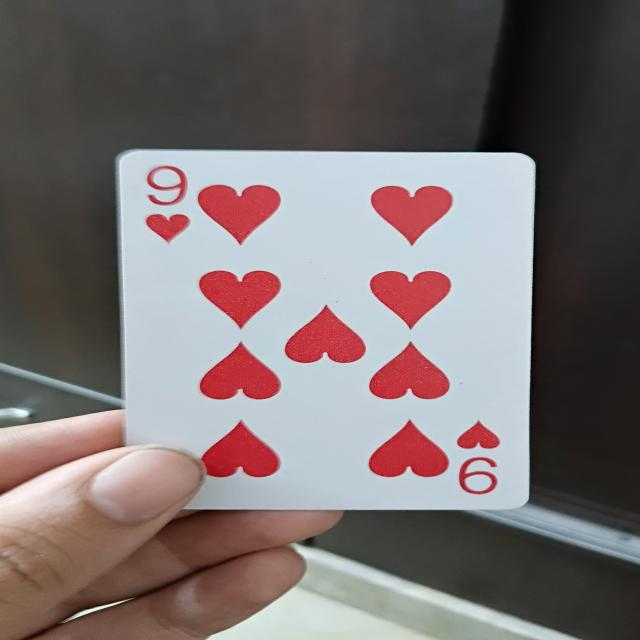9H: (111, 144, 530, 515)
